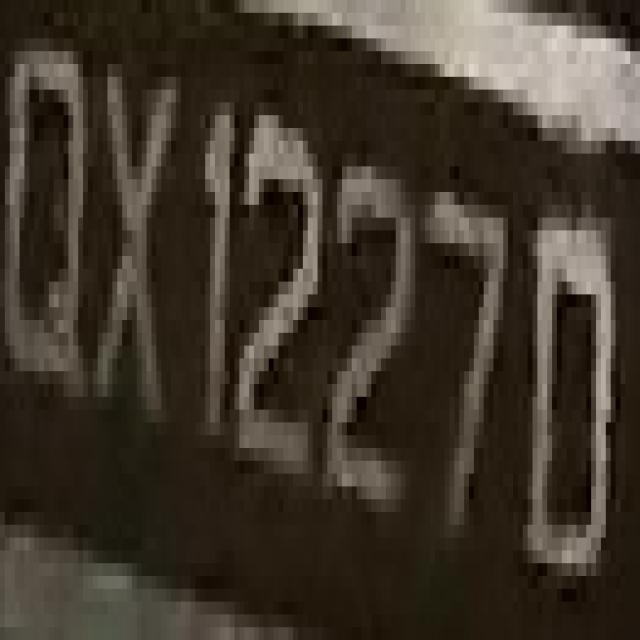1: (200, 39, 230, 474)
2: (308, 128, 420, 550), (230, 51, 318, 525)
7: (420, 128, 508, 563)
D: (513, 166, 620, 614)
Q: (10, 0, 83, 461)
X: (78, 39, 171, 474)
